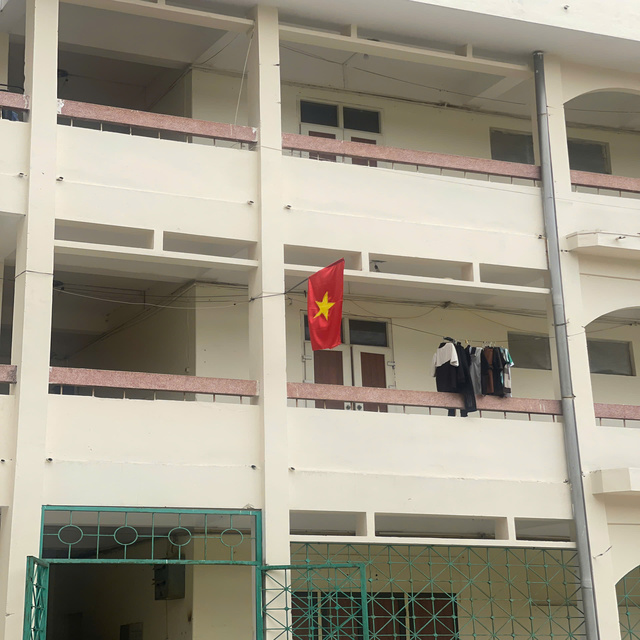laco: (297, 259, 350, 354)
